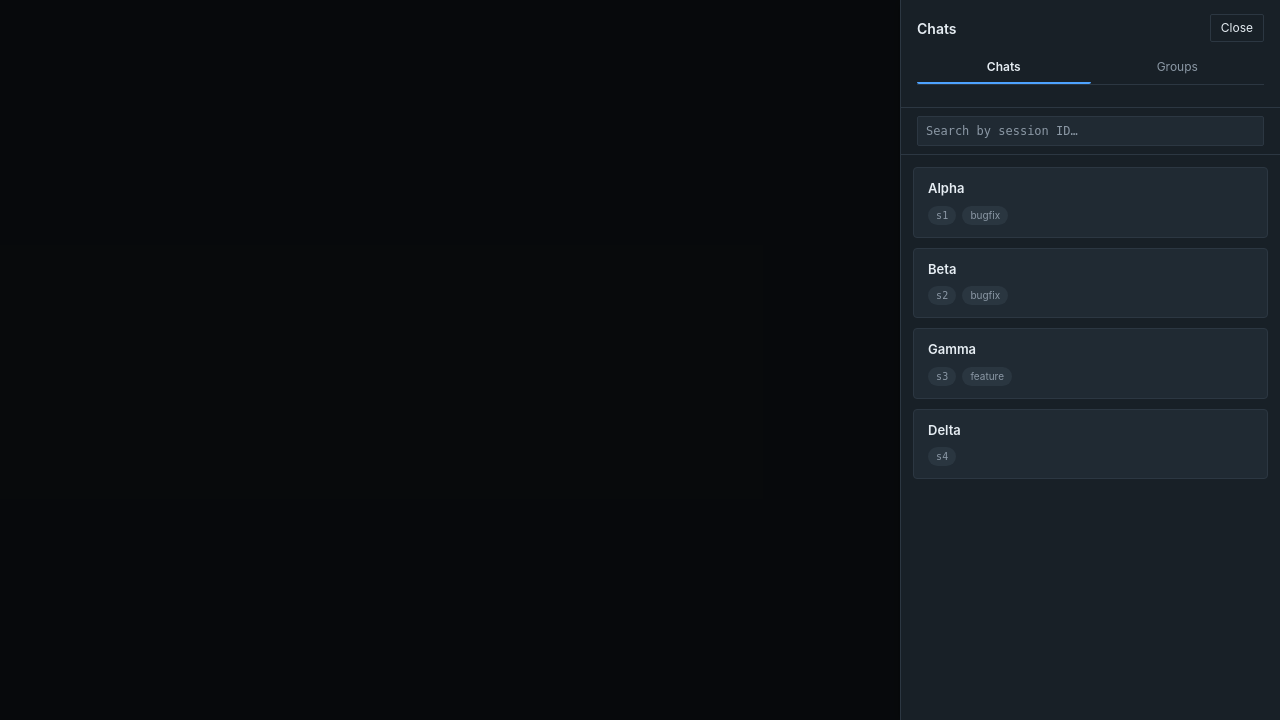
Test: <ChatsDrawer> › Groups tab › expands a group to reveal its sessions on click
What coordinates should you click on to do the following:
click the button "Groups"
I would click on:
 (1177, 68)
Its box is [1090,52,1264,84].
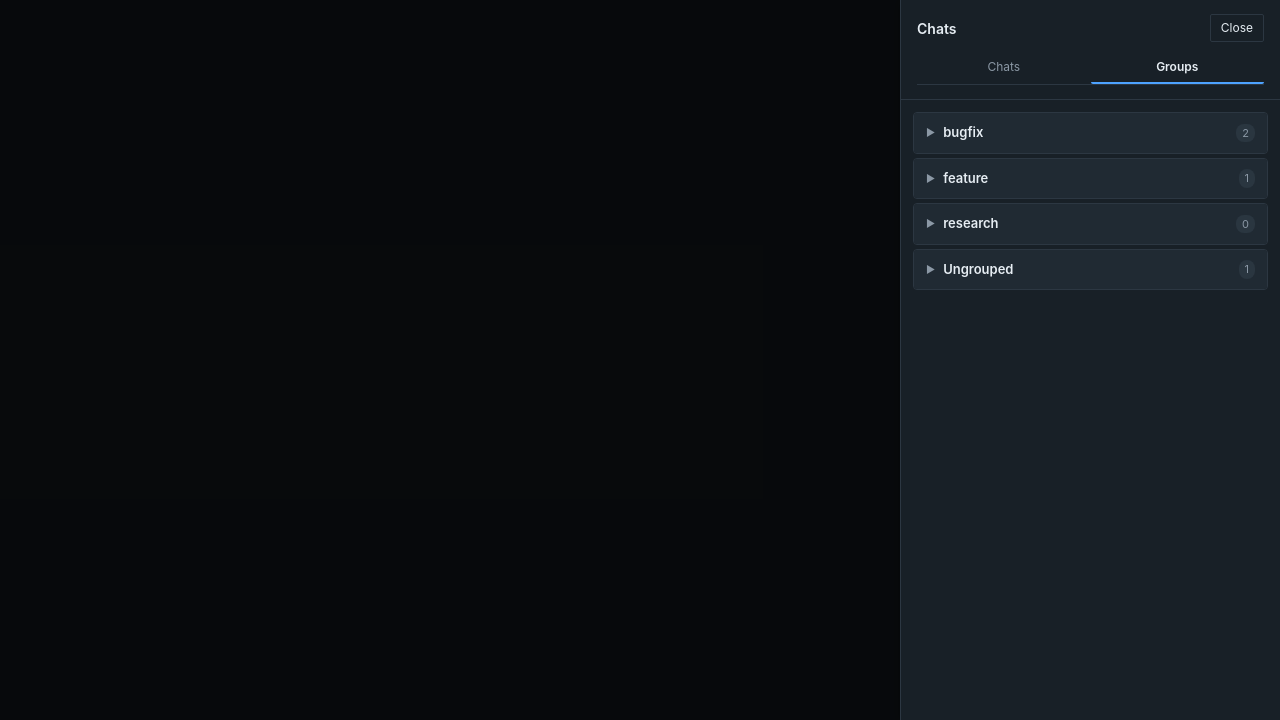
Check: the text "Alpha" is gone
# Click bugfix group header
What coordinates should you click on to do the following:
click the text "bugfix"
I would click on:
 (963, 132)
Its box is [943,124,983,140].
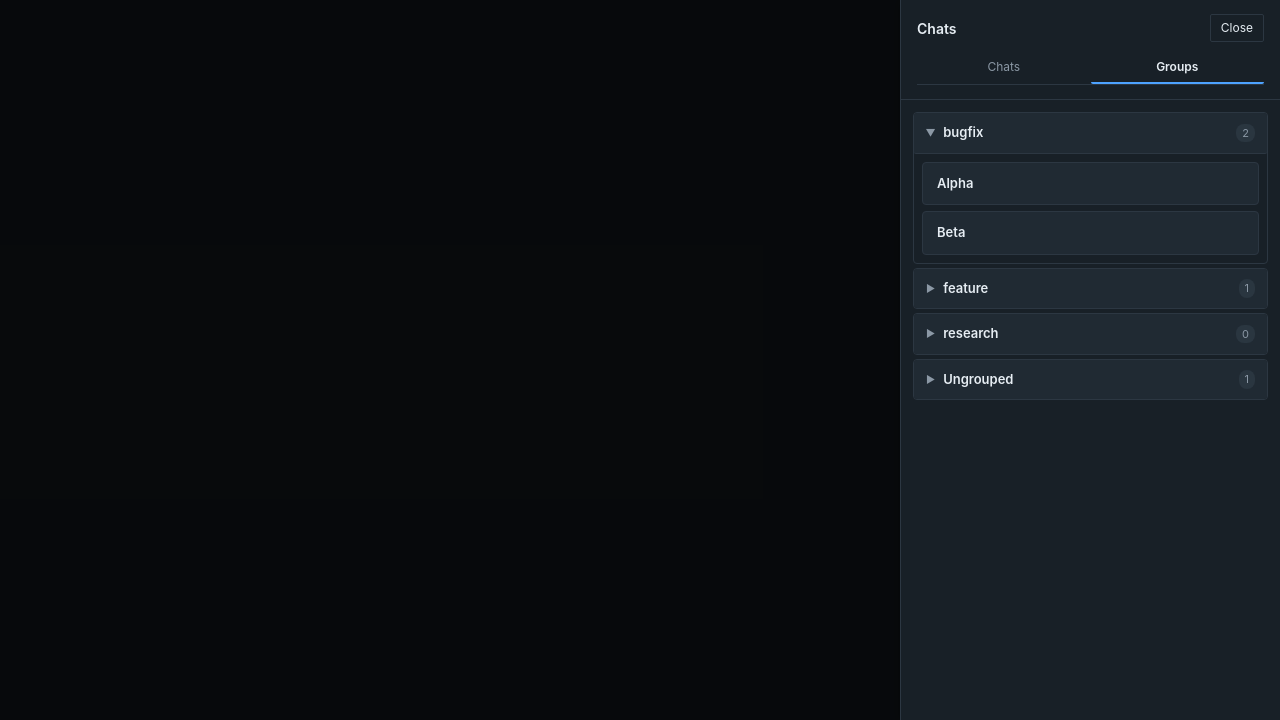
Check: the text "Alpha" is shown, box [937,174,973,192]
Check: the text "Beta" is shown, box [937,224,965,242]
